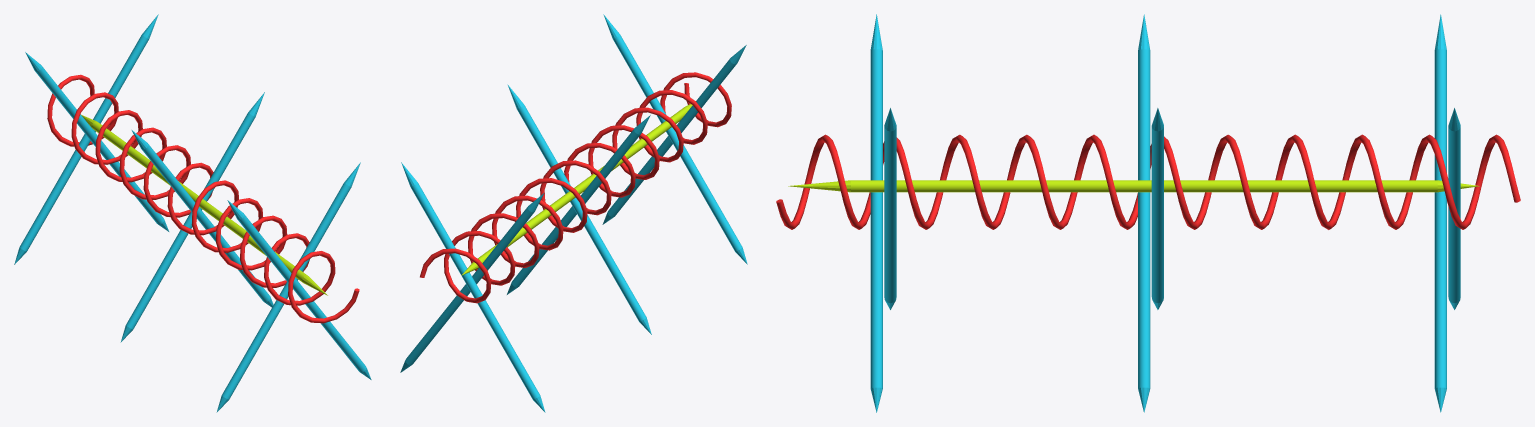
The model's file is Prikkeldraad test 5.FBX.
The picture shows the model from 3 angles, left to right: view 1: azimuth 30°, elevation 25°; view 2: azimuth 150°, elevation 25°; view 3: azimuth 270°, elevation 25°; orthographic projection. The views are drawn at different scales.
Parts seen in each view (by area): view 1: Spring001, Cylinder002, Cylinder008, Cylinder005, Cylinder007, Cylinder006, Cylinder003, Cylinder004; view 2: Spring001, Cylinder002, Cylinder008, Cylinder005, Cylinder003, Cylinder006, Cylinder004, Cylinder007; view 3: Spring001, Cylinder006, Cylinder007, Cylinder004, Cylinder003, Cylinder008, Cylinder005, Cylinder002.
Part boxes in pixels (bbox=[...]): Spring001: bbox=[47, 74, 359, 323]; Cylinder002: bbox=[14, 14, 158, 264]; Cylinder008: bbox=[216, 162, 360, 412]; Cylinder005: bbox=[120, 92, 264, 342]; Cylinder007: bbox=[227, 200, 371, 379]; Cylinder006: bbox=[81, 114, 327, 295]; Cylinder003: bbox=[25, 52, 169, 231]; Cylinder004: bbox=[131, 130, 273, 307]; Spring001: bbox=[420, 72, 731, 303]; Cylinder002: bbox=[401, 162, 545, 412]; Cylinder008: bbox=[603, 14, 747, 264]; Cylinder005: bbox=[507, 84, 651, 334]; Cylinder003: bbox=[400, 193, 544, 372]; Cylinder006: bbox=[461, 104, 692, 275]; Cylinder004: bbox=[507, 115, 650, 294]; Cylinder007: bbox=[602, 45, 746, 224]; Spring001: bbox=[776, 134, 1520, 229]; Cylinder006: bbox=[788, 180, 1479, 192]; Cylinder007: bbox=[870, 14, 882, 412]; Cylinder004: bbox=[1138, 14, 1150, 412]; Cylinder003: bbox=[1434, 14, 1446, 412]; Cylinder008: bbox=[884, 108, 896, 309]; Cylinder005: bbox=[1151, 108, 1163, 309]; Cylinder002: bbox=[1448, 108, 1460, 309].
Size of the model in its own units: 98.32 by 135 by 302.
